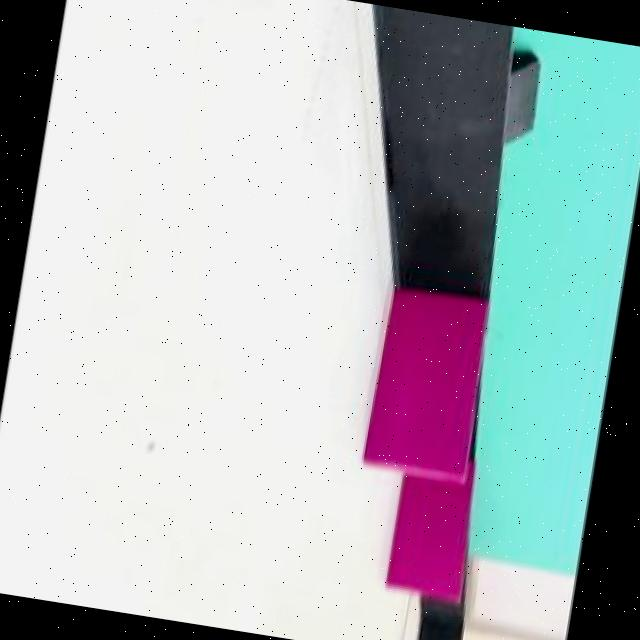xparking: (359, 288, 486, 478), (386, 476, 470, 595)
